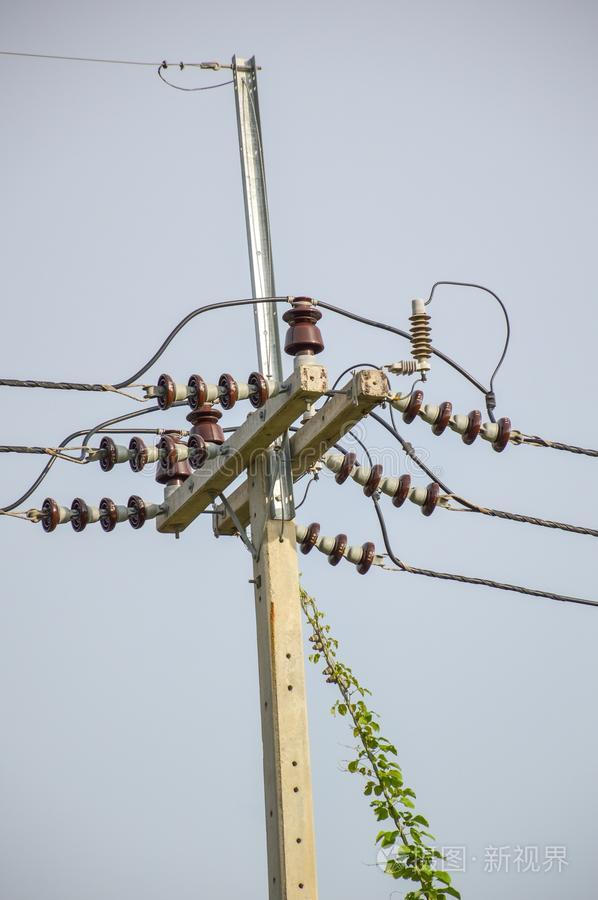insulator: (401, 392, 511, 453), (333, 454, 438, 516), (37, 494, 146, 537), (152, 369, 270, 408), (301, 517, 375, 576), (90, 430, 145, 473)
